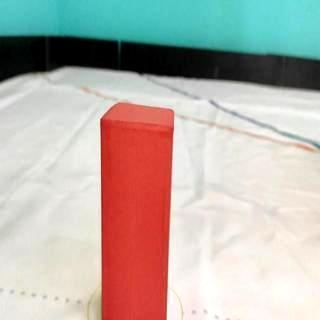redbox: (100, 101, 174, 320)
